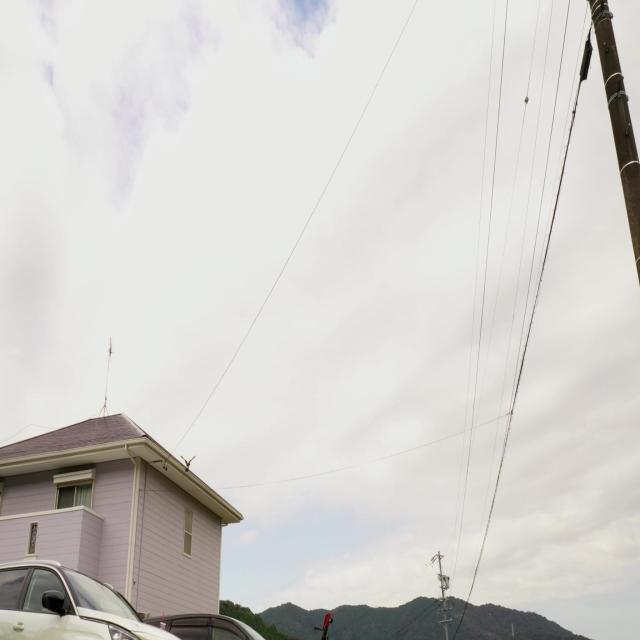Birds: (177, 446, 198, 477)
